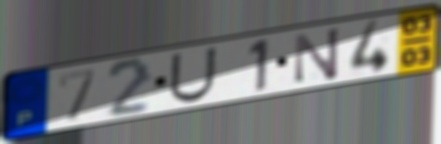1: (246, 37, 273, 96)
2: (103, 56, 158, 122)
4: (347, 17, 394, 77)
7: (56, 66, 98, 124)
N: (292, 25, 343, 86)
U: (167, 45, 220, 105)
